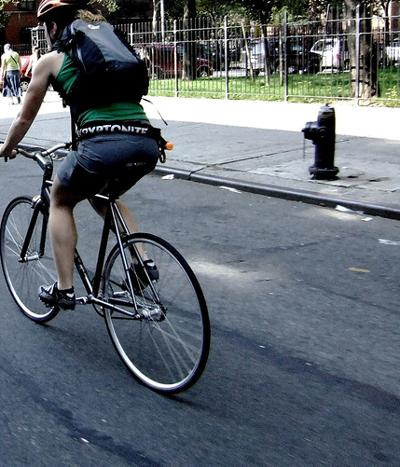person: (2, 1, 168, 310)
